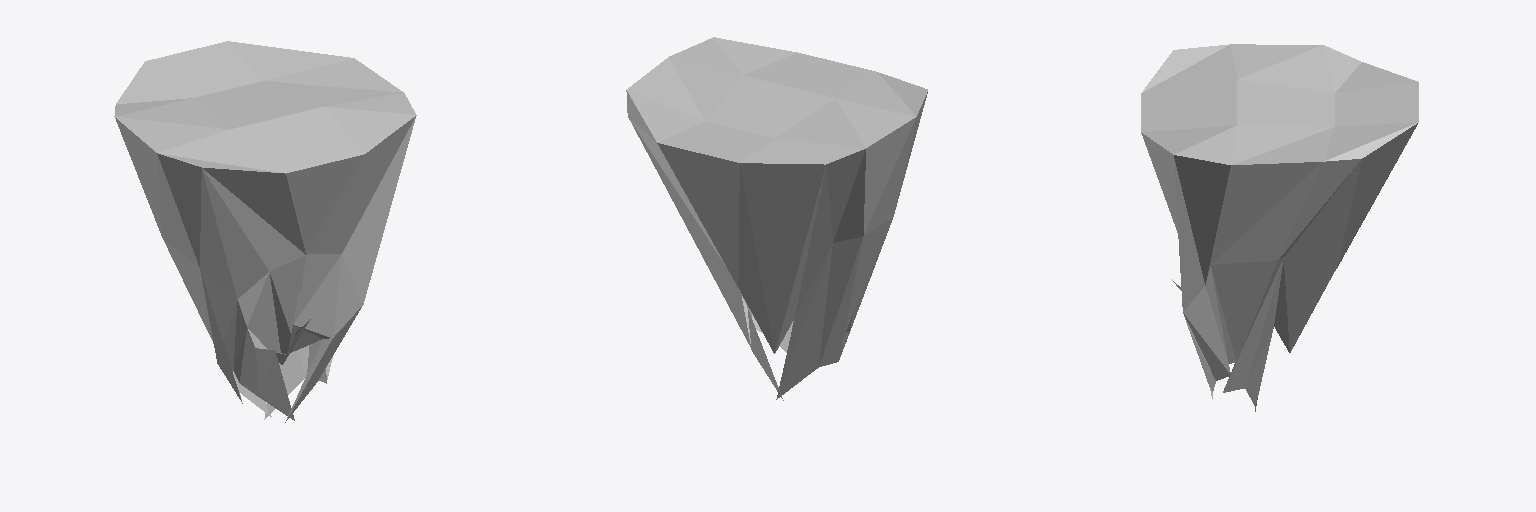
The model's file is stone0013.obj.
3 views of the same model, side by side, from view 1: azimuth 30°, elevation 25°; view 2: azimuth 150°, elevation 25°; view 3: azimuth 270°, elevation 25° (orthographic).
Parts seen in each view (by area): view 1: Landscape.000; view 2: Landscape.000; view 3: Landscape.000.
Part boxes in pixels (left/top/right/bottom): Landscape.000: left=114, top=41, right=416, bottom=422; Landscape.000: left=626, top=37, right=927, bottom=400; Landscape.000: left=1141, top=44, right=1418, bottom=411.
Size of the model in its own units: 0.4274 by 0.5077 by 0.4158.